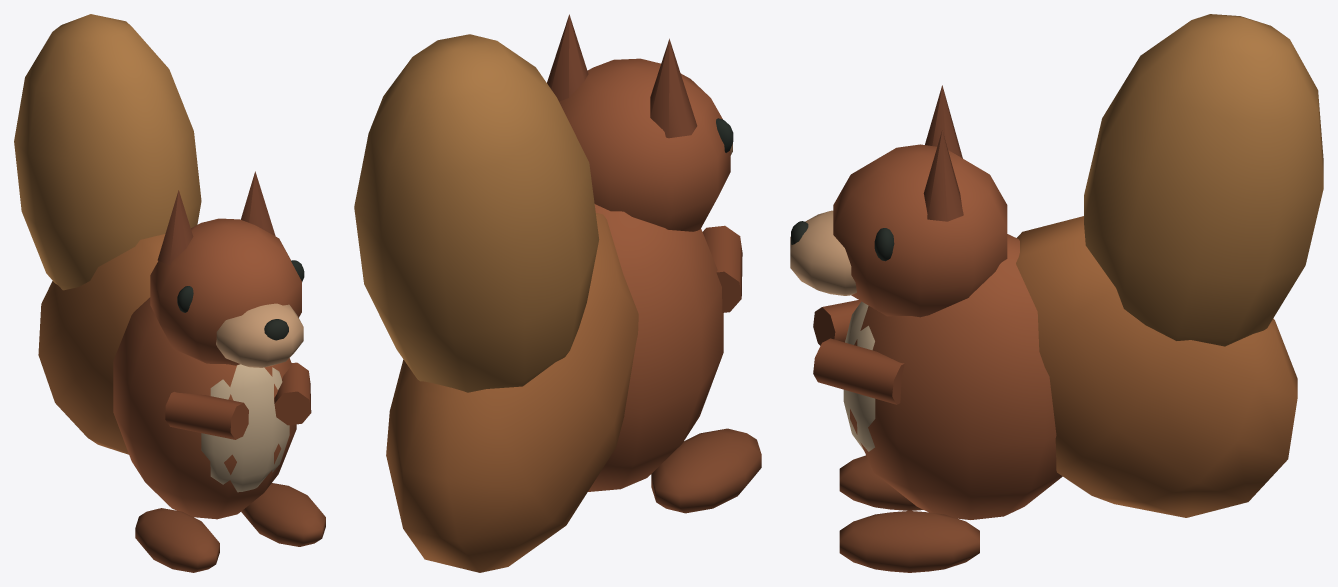
File: red-squirrel.glb
The picture shows the model from 3 angles, left to right: view 1: azimuth 30°, elevation 25°; view 2: azimuth 150°, elevation 25°; view 3: azimuth 270°, elevation 25°; orthographic projection. The views are drawn at different scales.
Parts seen in each view (by area): view 1: part-0; view 2: part-0; view 3: part-0.
Boxes of the visible parts, x1,y1,x2,y2 form: part-0: (14, 14, 325, 572); part-0: (354, 14, 761, 572); part-0: (790, 14, 1323, 572).
Bounding box in the file's own units: 0.1266 × 0.3158 × 0.2947.
